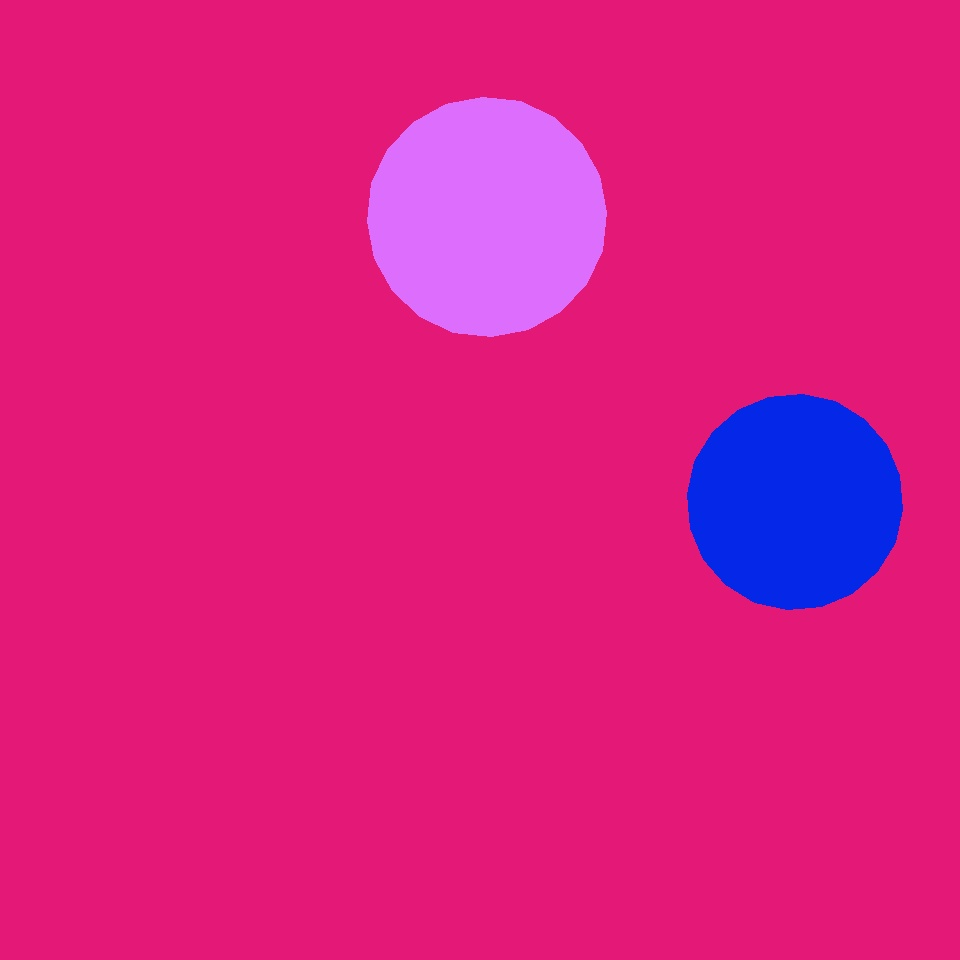square: (137, 124, 439, 425), (214, 1, 324, 110)
triangle: (322, 216, 692, 587), (368, 98, 606, 336), (688, 394, 902, 610)
